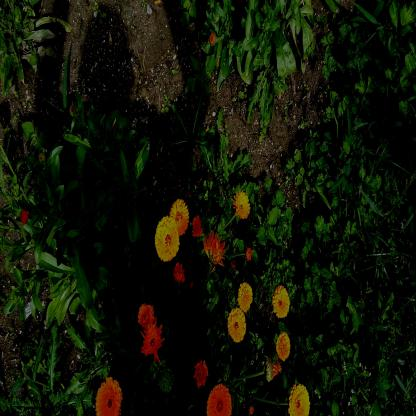marigold: (154, 216, 178, 262), (96, 378, 121, 416), (207, 386, 232, 416), (170, 201, 188, 236), (228, 308, 245, 344), (289, 385, 309, 415), (272, 286, 290, 317), (238, 282, 253, 310), (235, 192, 250, 219), (277, 333, 290, 361)
